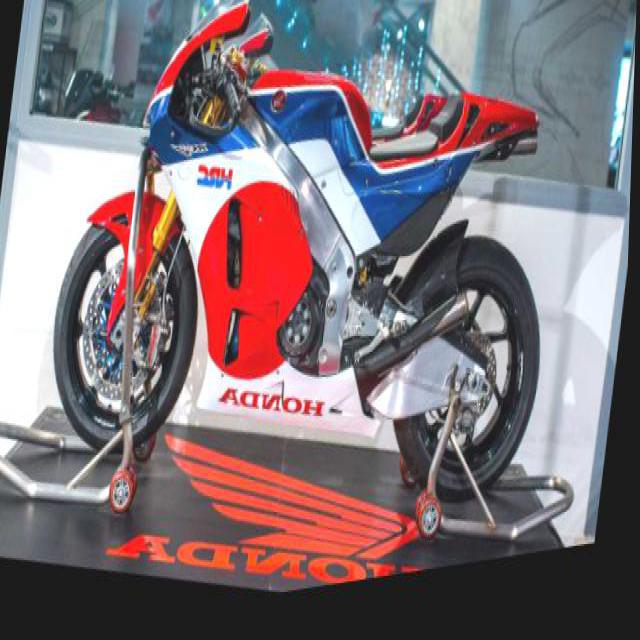HRC RCV 213: (38, 0, 585, 583)
